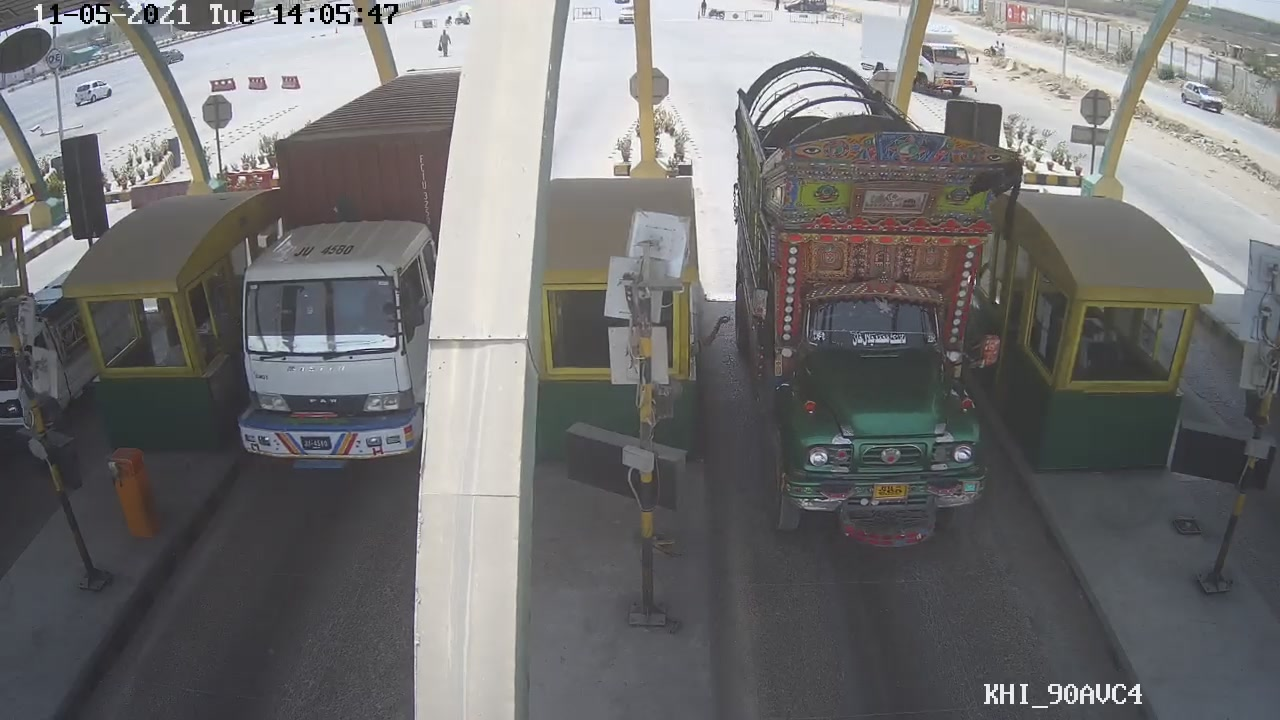F5: (731, 63, 1028, 553)
